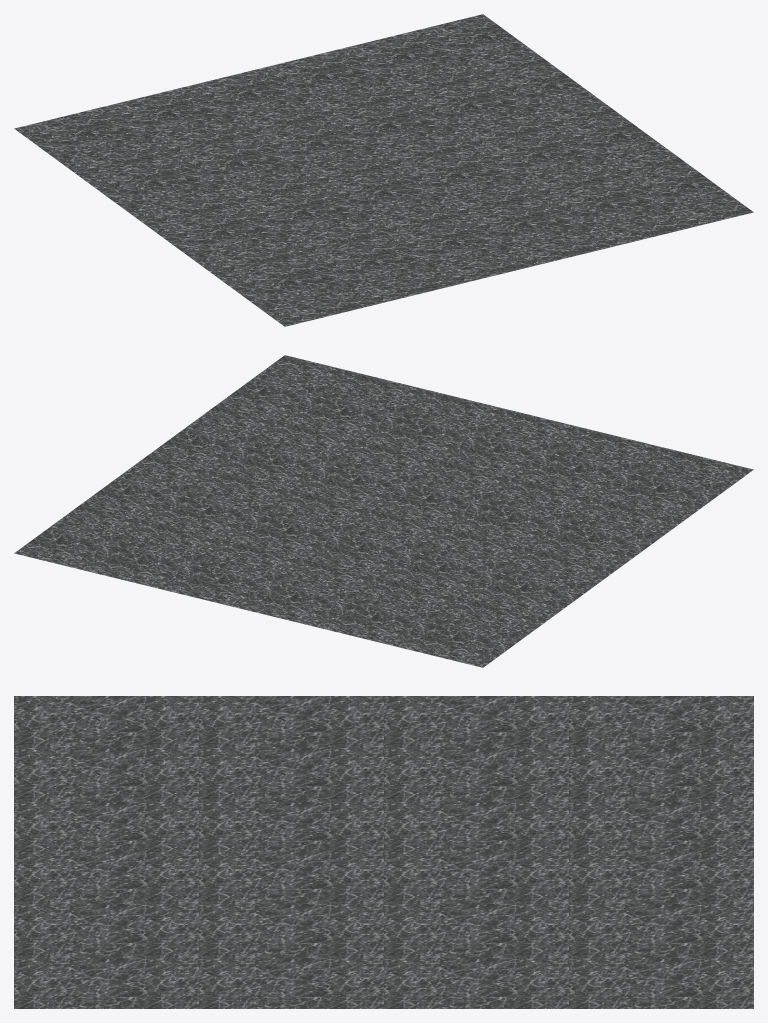
Rendered from 10x10floor.fbx.
3 renders of one model, top to bottom at view 1: azimuth 30°, elevation 25°; view 2: azimuth 150°, elevation 25°; view 3: azimuth 270°, elevation 25°, orthographic. The views are drawn at different scales.
Visible parts, largest first — view 1: Floor10x10; view 2: Floor10x10; view 3: Floor10x10.
Boxes of the visible parts, <box> form: Floor10x10: <box>14,14,753,326</box>; Floor10x10: <box>14,355,753,667</box>; Floor10x10: <box>14,696,753,1008</box>.
Bounding box in the file's own units: 1000 × 0 × 1000.
1 material, 1 textured.
